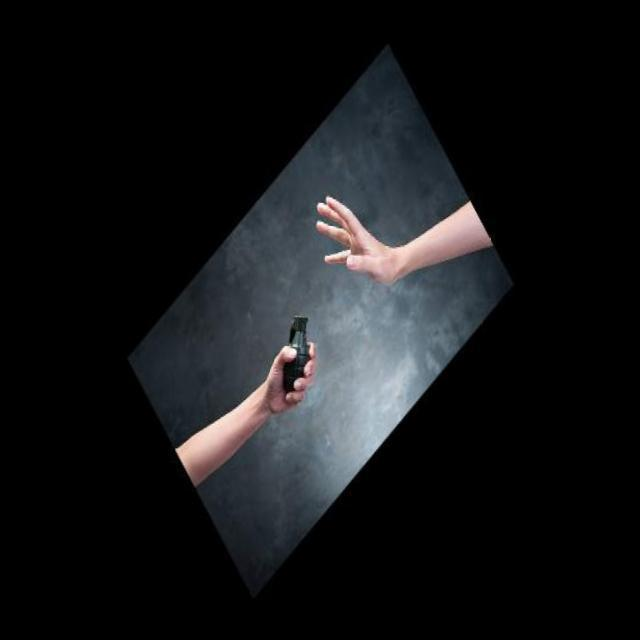grenade: (276, 307, 314, 397)
